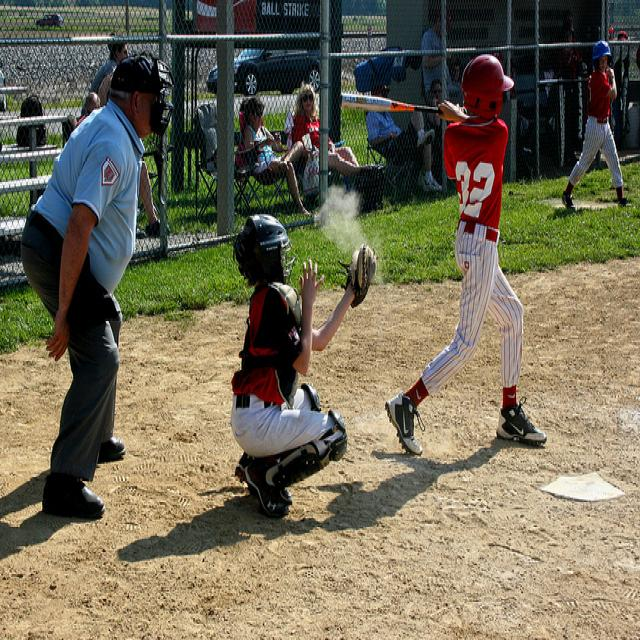Vehicle: (210, 45, 321, 95), (34, 12, 65, 28), (0, 60, 8, 114)
